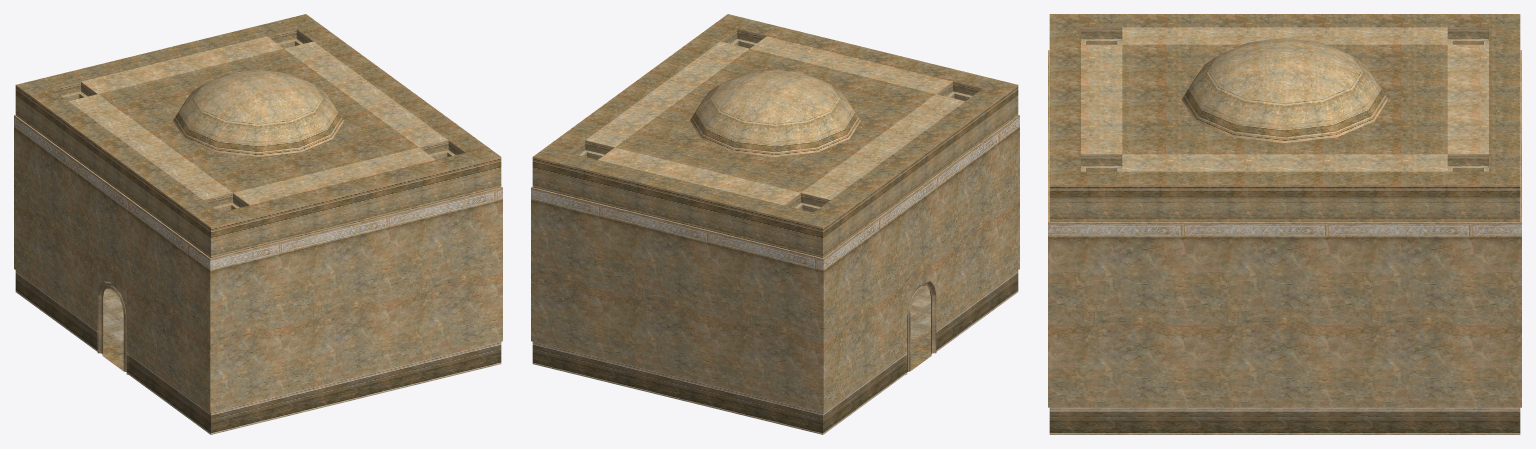
The model's file is mun_tato_capitol_s01_r10_meeting5_mesh_meeting5.fbx.
The picture shows the model from 3 angles, left to right: view 1: azimuth 30°, elevation 25°; view 2: azimuth 150°, elevation 25°; view 3: azimuth 270°, elevation 25°; orthographic projection. The views are drawn at different scales.
Visible parts, largest first — view 1: mesh_node; view 2: mesh_node; view 3: mesh_node.
Part boxes in pixels (left/top/right/bottom): mesh_node: left=14, top=14, right=502, bottom=434; mesh_node: left=531, top=14, right=1019, bottom=434; mesh_node: left=1048, top=14, right=1521, bottom=434.
Bounding box in the file's own units: 12.96 × 10.44 × 15.07.
